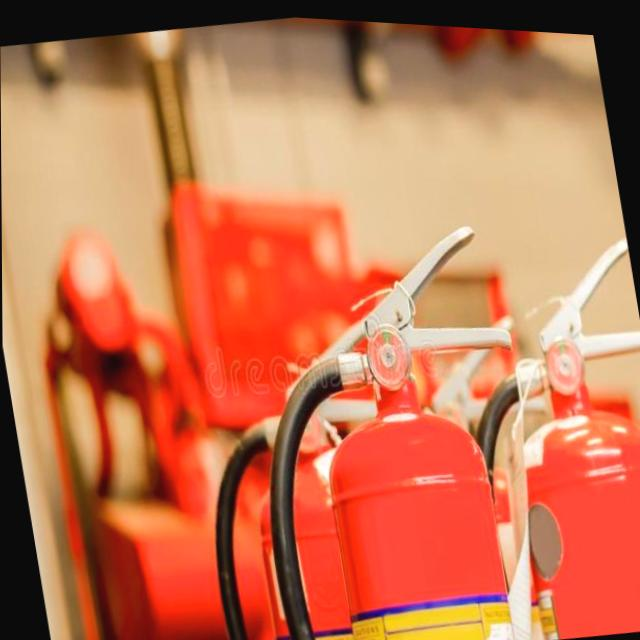FireExtinguisher: (218, 199, 562, 640), (168, 284, 452, 640), (421, 215, 640, 640)
